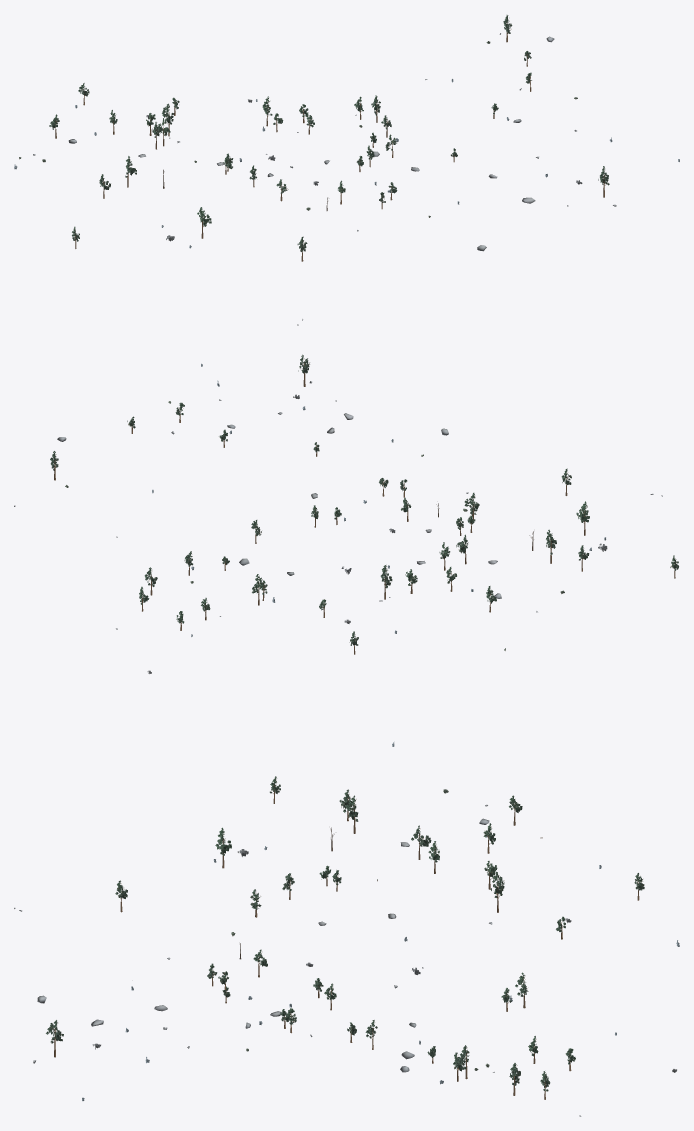
Rendered from frost_land_scatter_c24_09.glb.
3 renders of one model, top to bottom at view 1: azimuth 30°, elevation 25°; view 2: azimuth 150°, elevation 25°; view 3: azimuth 270°, elevation 25°, orthographic. The views are drawn at different scales.
Visible parts, largest first — view 1: frost_land_scatter_c24_09; view 2: frost_land_scatter_c24_09; view 3: frost_land_scatter_c24_09.
Part boxes in pixels (x1,y1,x2,y2): frost_land_scatter_c24_09: (14, 15, 679, 325); frost_land_scatter_c24_09: (14, 354, 678, 746); frost_land_scatter_c24_09: (14, 776, 679, 1116).
Bounding box in the file's own units: 255 × 56.57 × 223.
